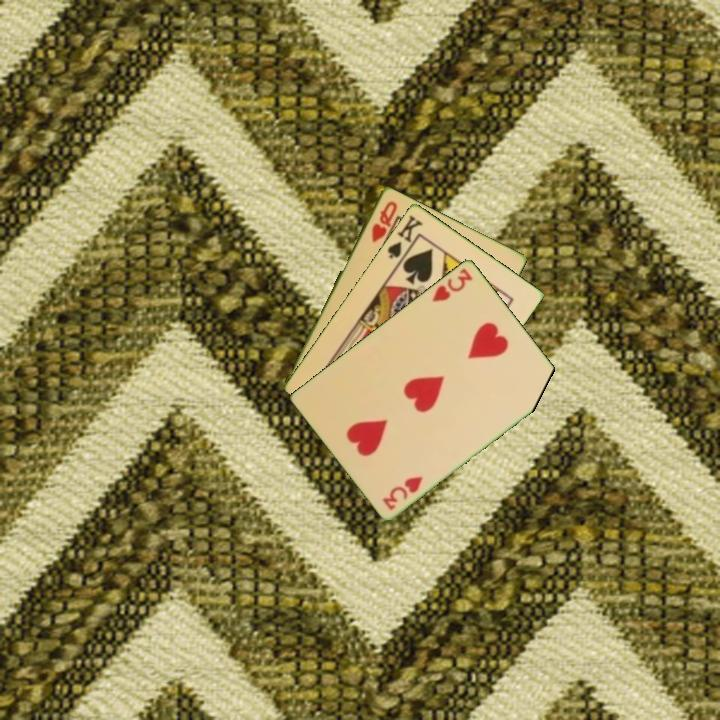3h: (379, 472, 426, 513), (429, 264, 475, 305)
Ks: (384, 211, 425, 266)
Qh: (368, 197, 400, 245)
